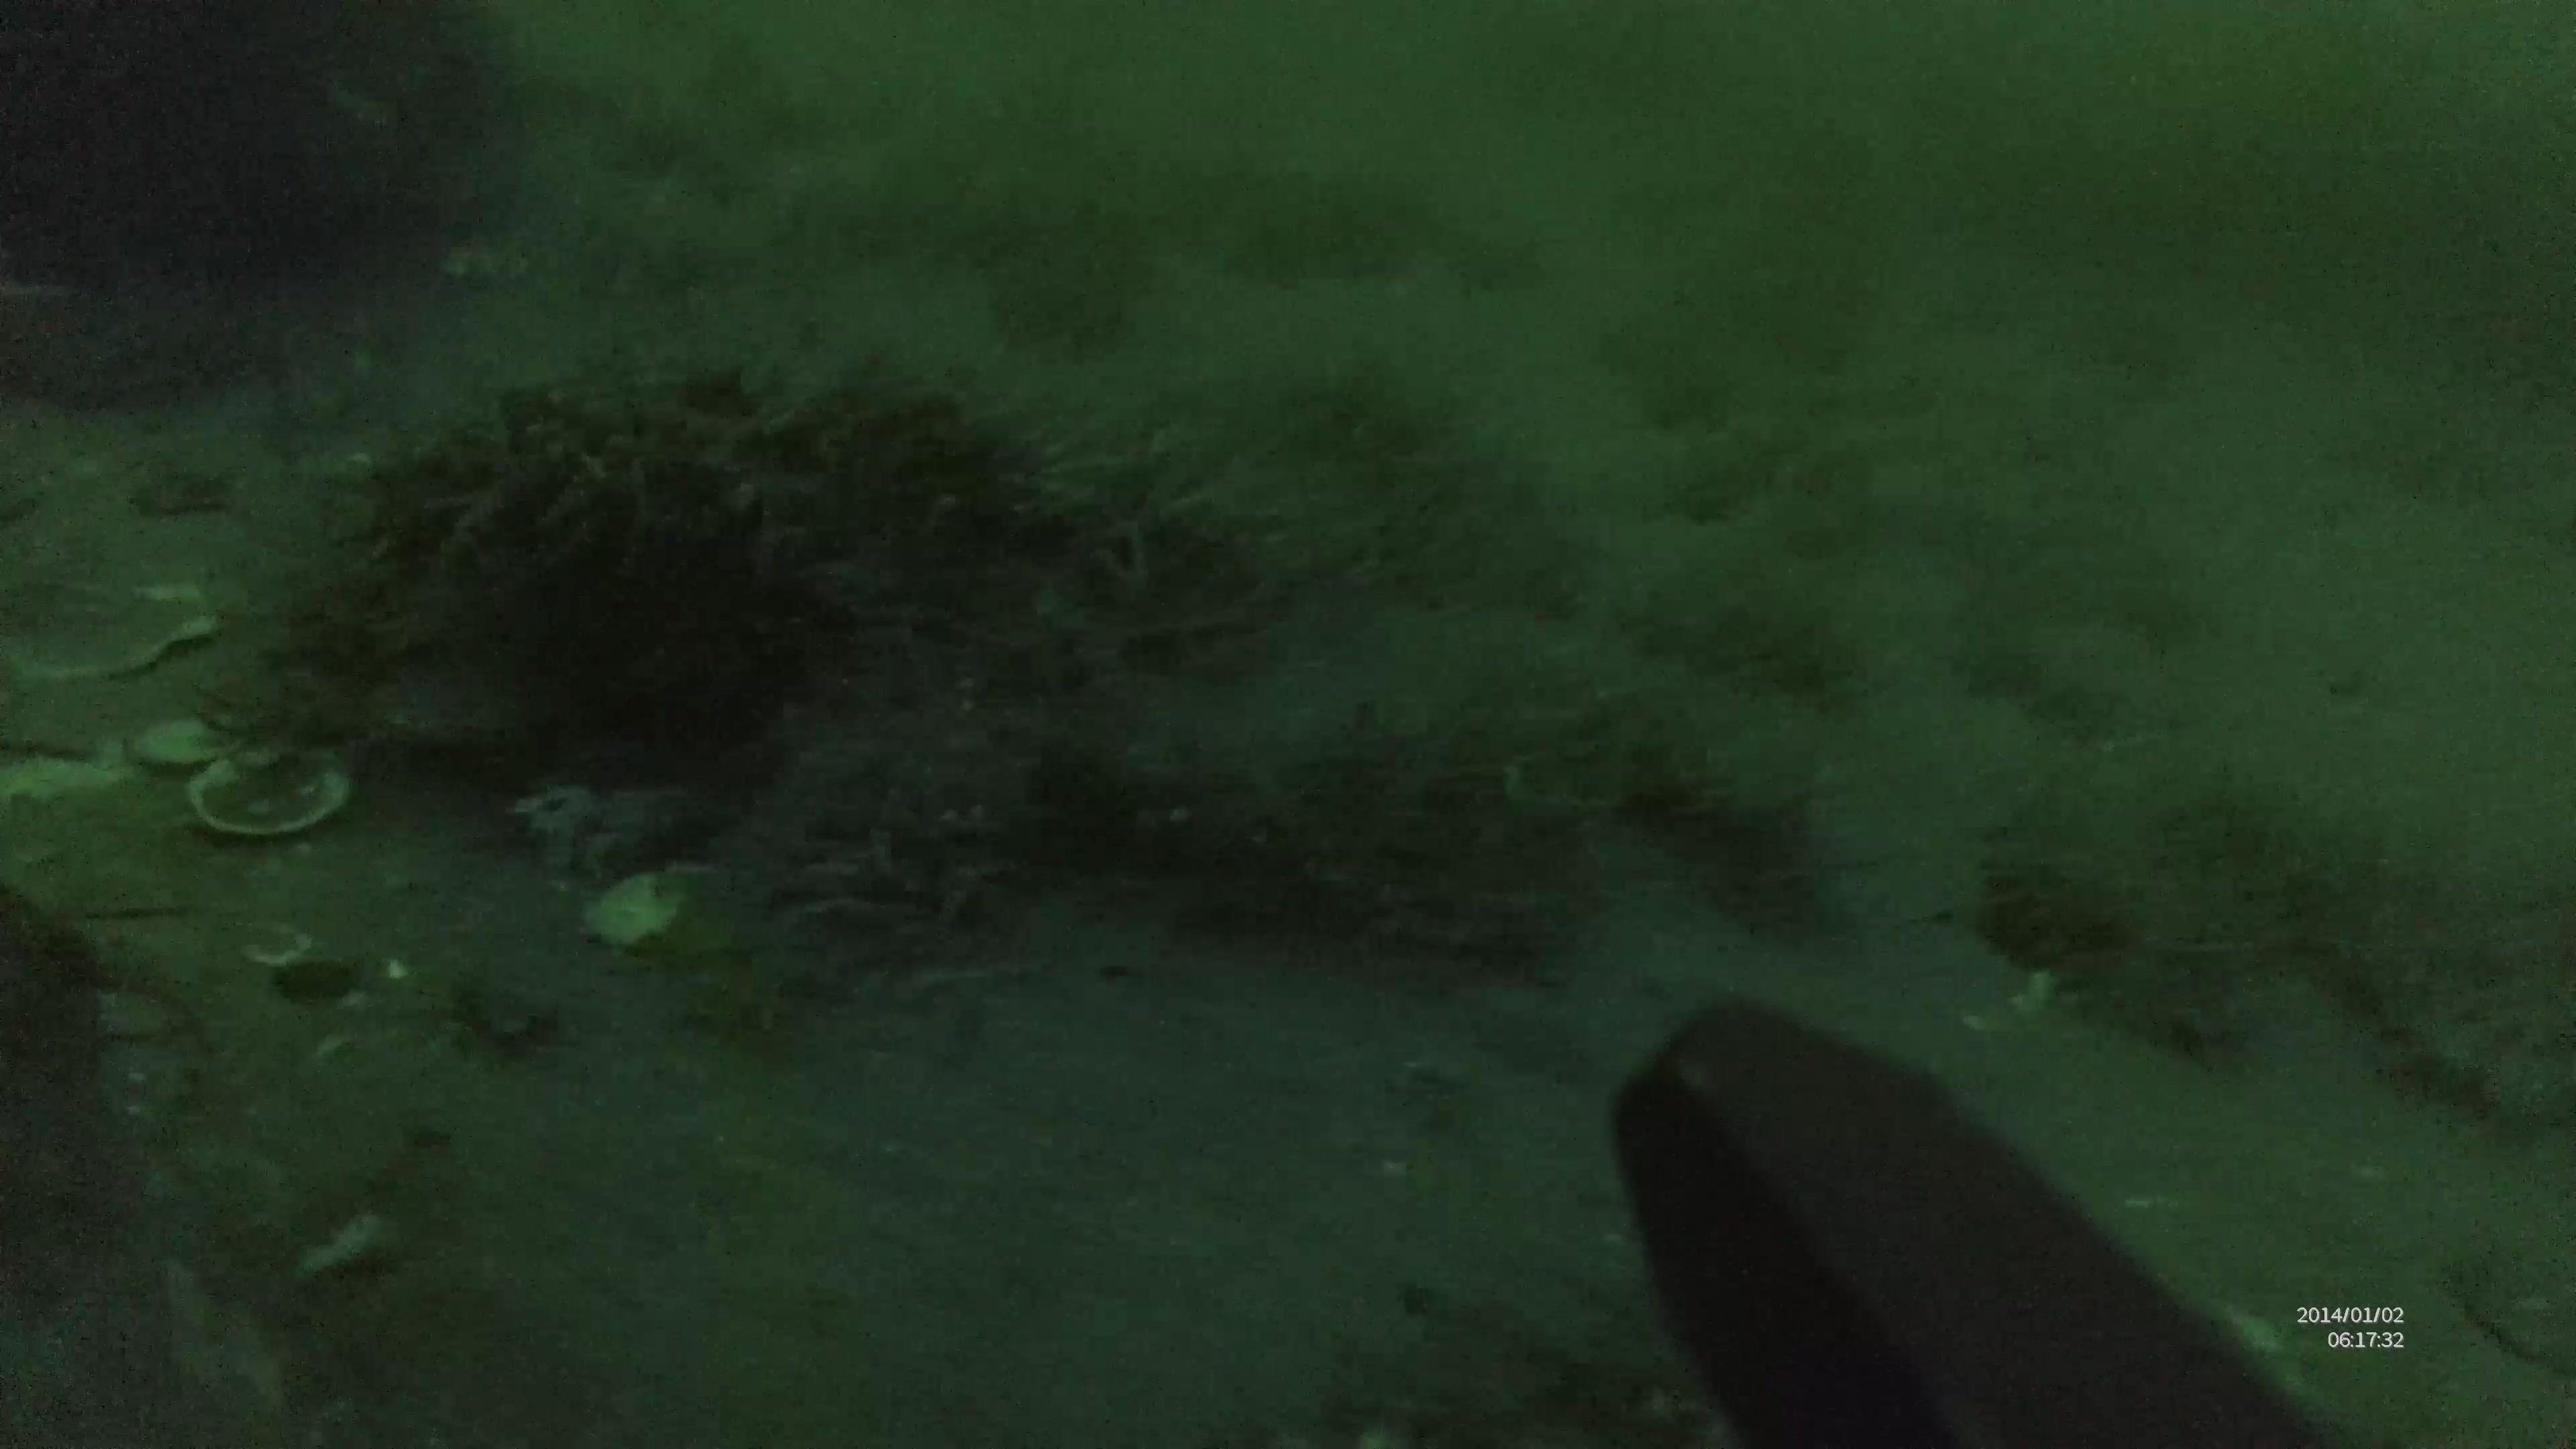scallop: (16, 580, 209, 685)
